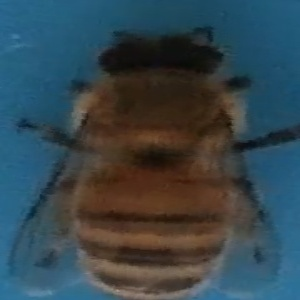bee: (3, 27, 300, 300)
